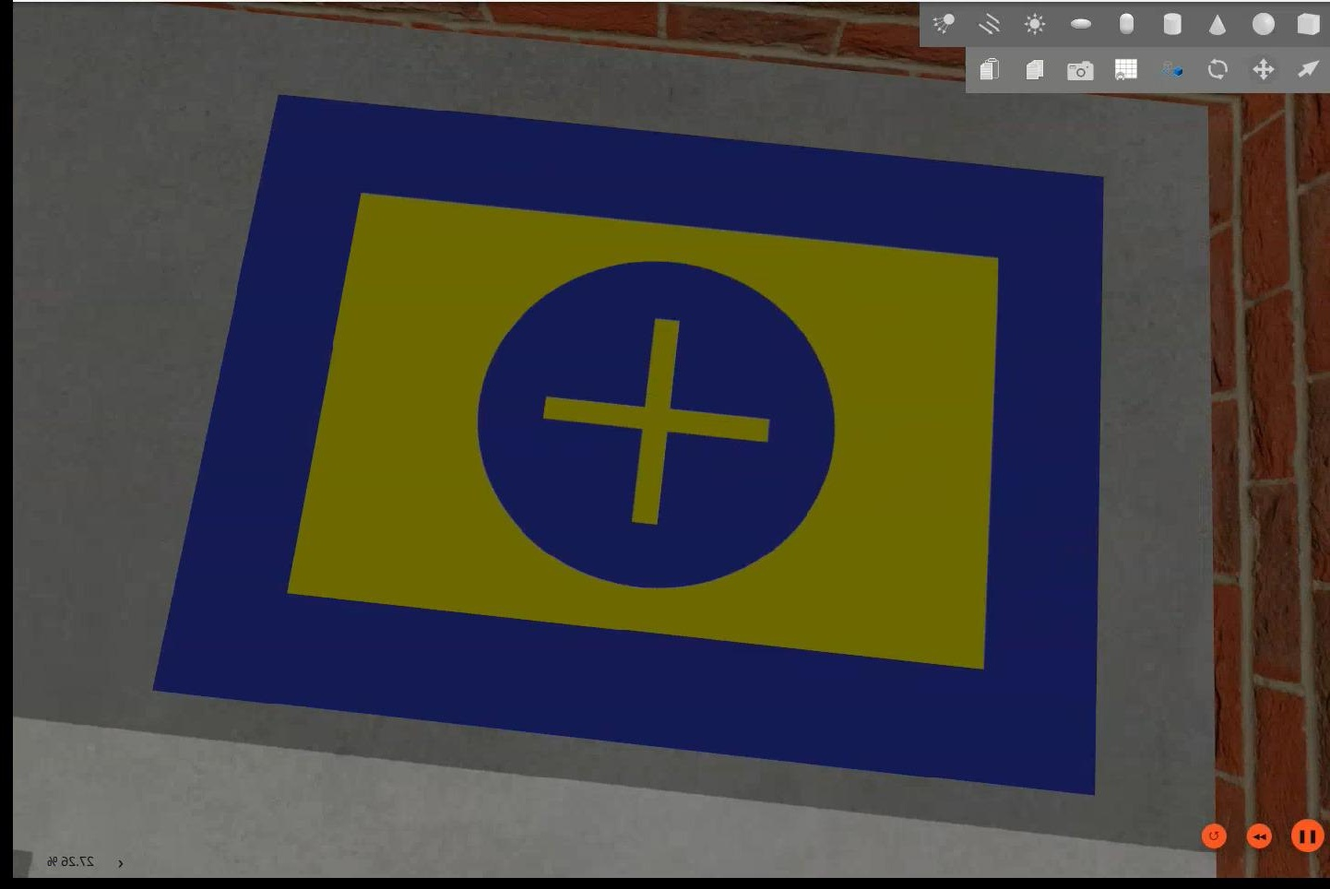large_base: (153, 92, 1105, 798)
